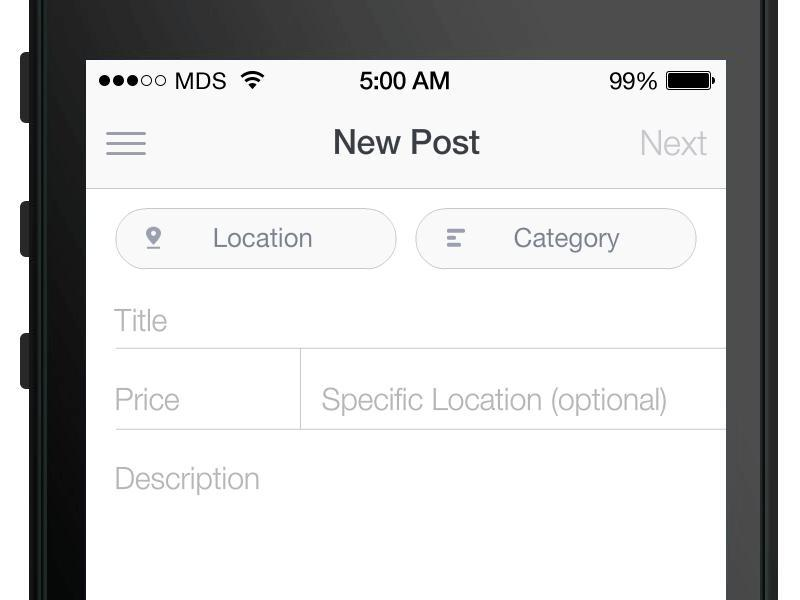button: (416, 209, 698, 271), (116, 209, 398, 270)
icon: (103, 129, 151, 160)
label: (322, 386, 669, 420), (112, 462, 266, 497), (638, 126, 712, 164), (114, 384, 183, 416), (114, 305, 173, 337)
